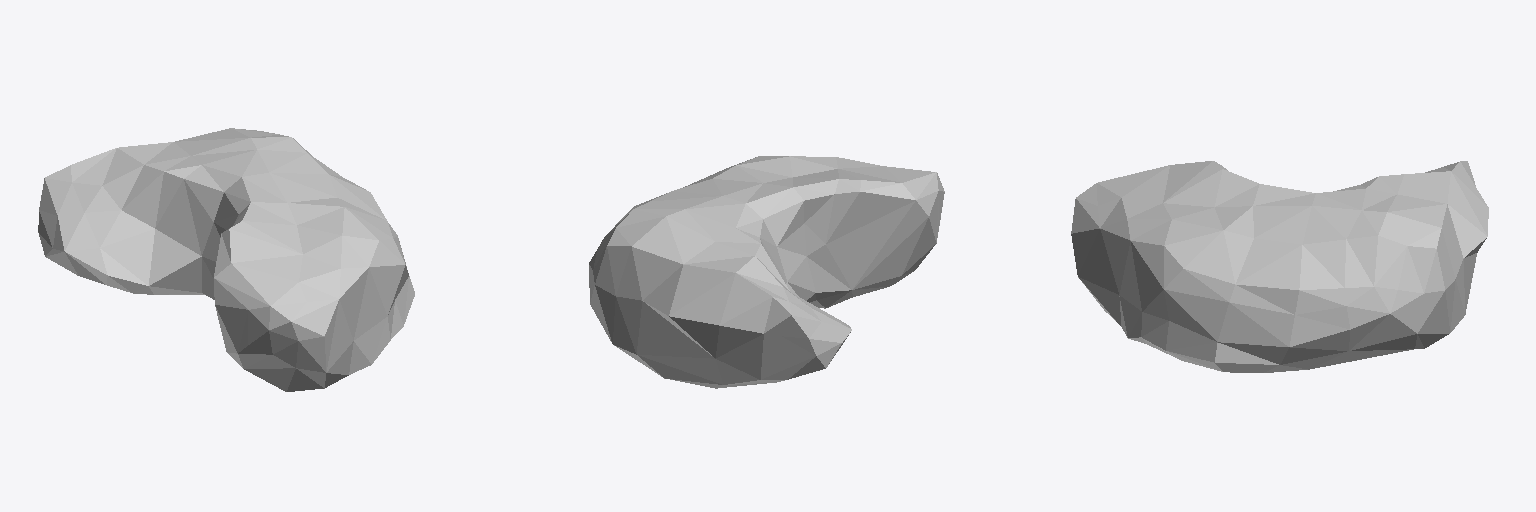
The model's file is winter-rock6.obj.
3 renders of one model, left to right at view 1: azimuth 30°, elevation 25°; view 2: azimuth 150°, elevation 25°; view 3: azimuth 270°, elevation 25°, orthographic.
Visible parts, largest first — view 1: Cube.009_Cube.011; view 2: Cube.009_Cube.011; view 3: Cube.009_Cube.011.
Boxes of the visible parts, x1=… form: Cube.009_Cube.011: x1=38, y1=128, x2=414, y2=391; Cube.009_Cube.011: x1=589, y1=156, x2=944, y2=388; Cube.009_Cube.011: x1=1071, y1=161, x2=1488, y2=372.
Size of the model in its own units: 3.27 by 1.52 by 4.27.